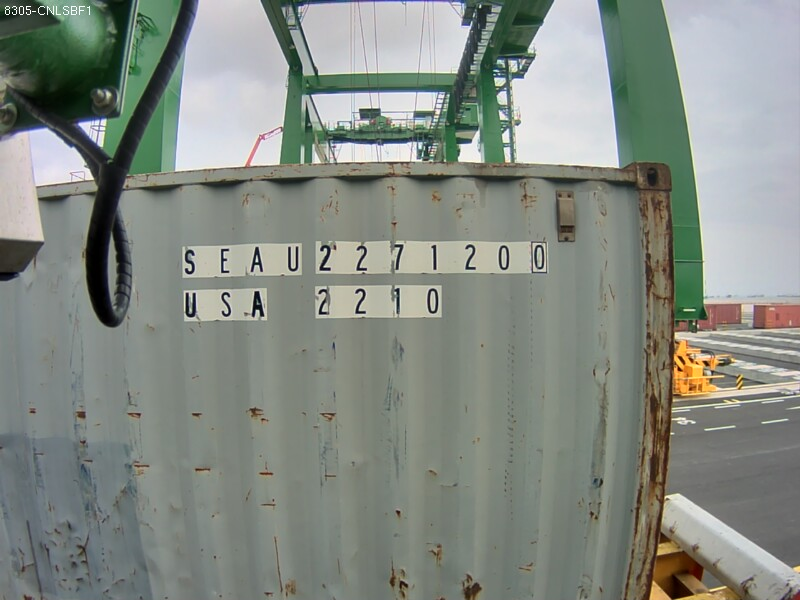container_no_door: (288, 154, 681, 599)
